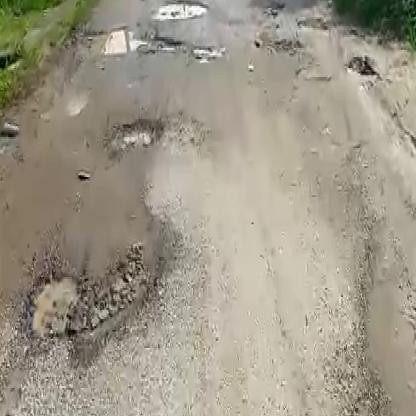pothole: (24, 236, 173, 352), (95, 27, 184, 57), (106, 114, 168, 152), (154, 0, 213, 19), (191, 41, 223, 61)
